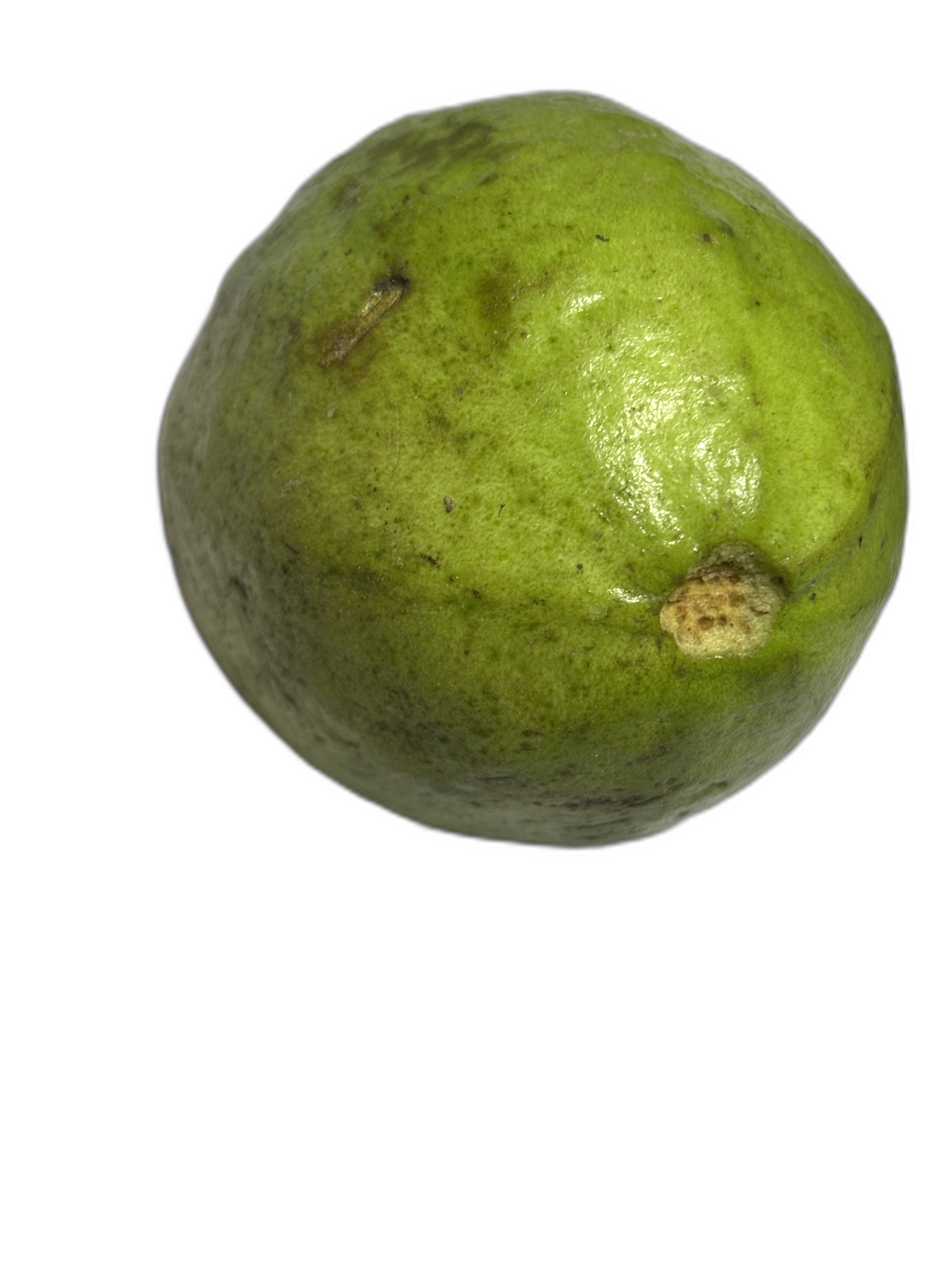guava: (162, 252, 838, 1065)
